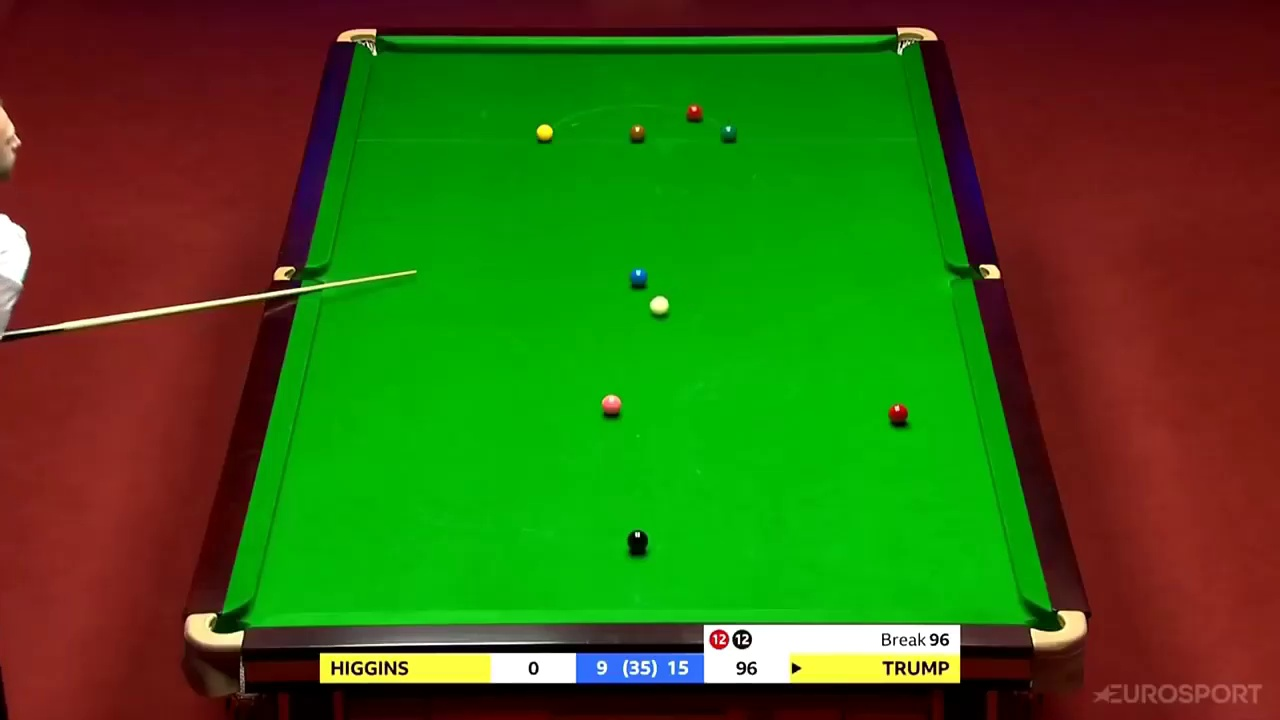black: (628, 529, 648, 554)
blue: (632, 268, 649, 289)
brown: (627, 123, 647, 143)
green: (722, 123, 737, 141)
pink: (601, 394, 623, 419)
red: (888, 403, 910, 425), (686, 101, 704, 121)
white: (647, 294, 670, 316)
yellow: (536, 122, 556, 140)
